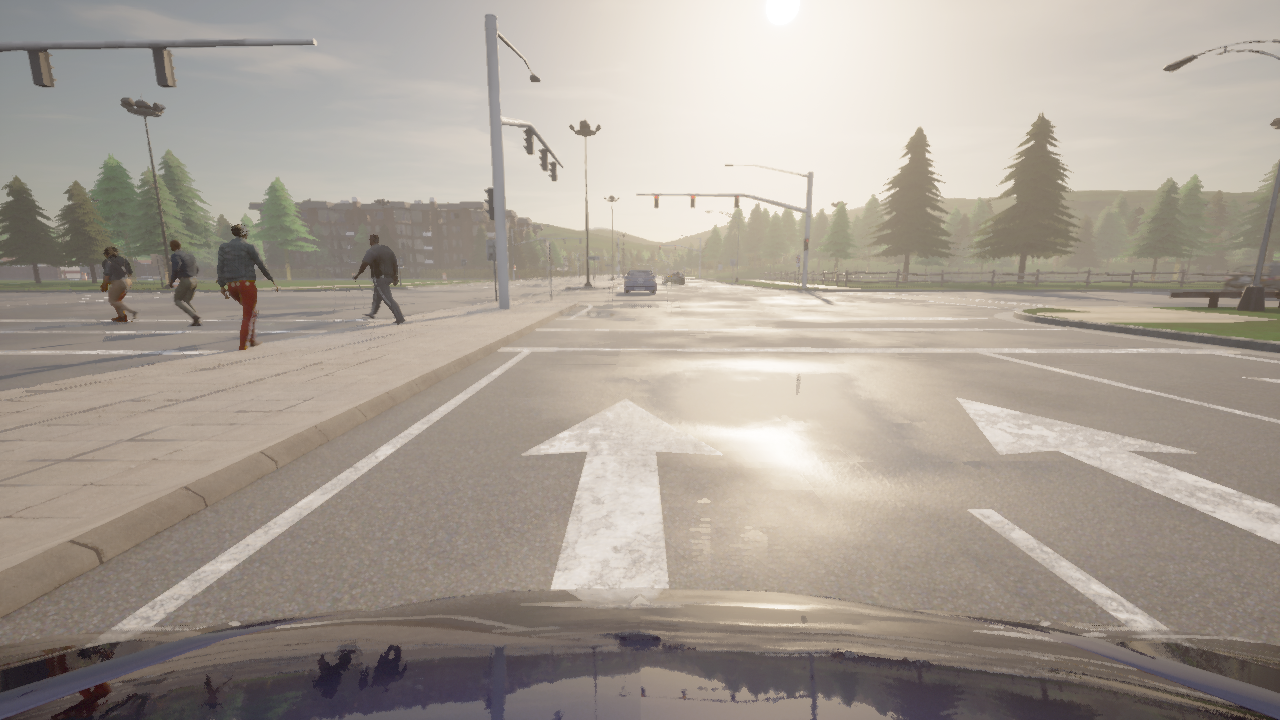cyclist: (0, 588, 1279, 719), (1221, 263, 1279, 300), (624, 270, 655, 293), (663, 270, 683, 284)
pedestrian: (216, 223, 278, 350), (353, 233, 403, 323), (168, 239, 201, 327), (101, 247, 139, 320)
